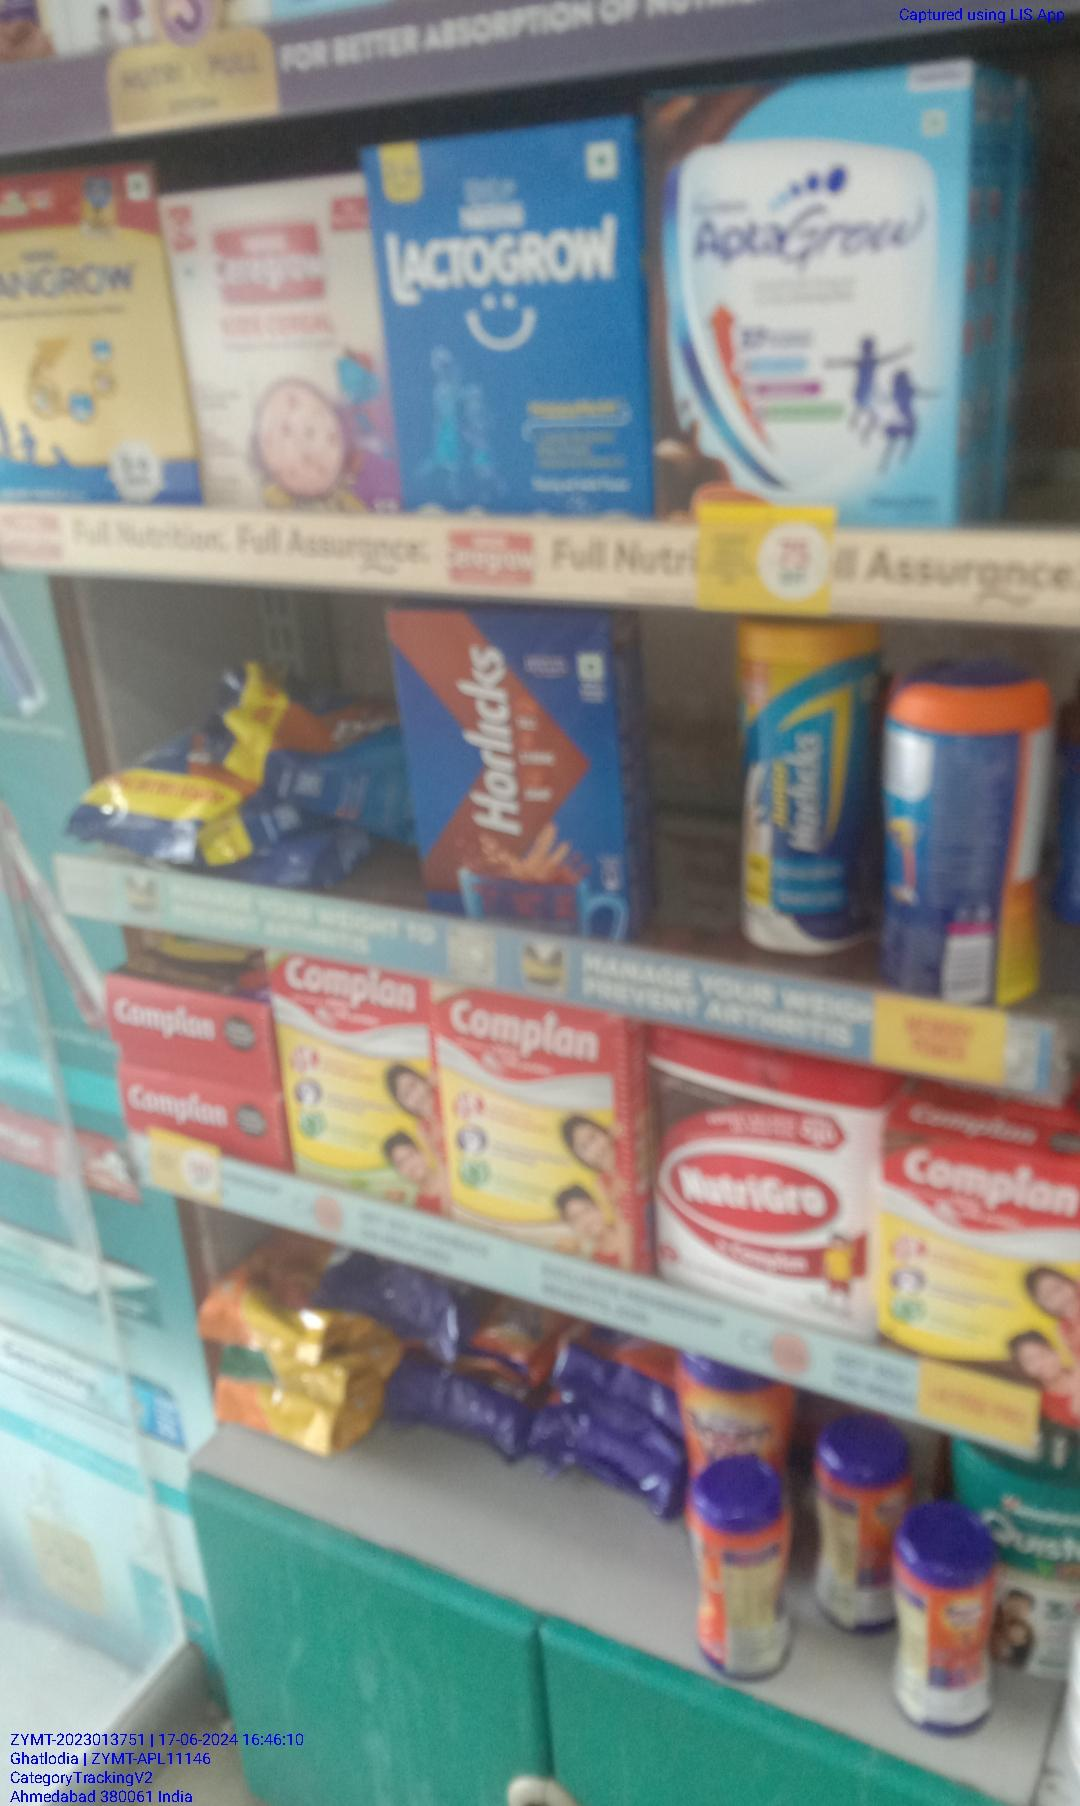COMPLAN_KESAR_BADAM_500_GMS_PACK: (450, 997, 630, 1257)
COMPLAN_PISTA_BADAM_500_GMS_PACK: (280, 959, 446, 1207)
HORLICK_CLASSIC_MALT_500_G_JAR: (728, 614, 872, 959)
